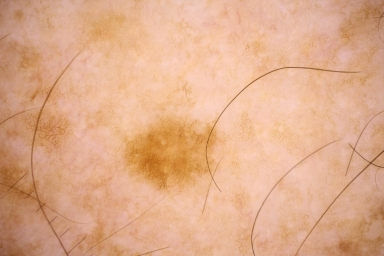melanoma: (125, 122, 220, 191)
